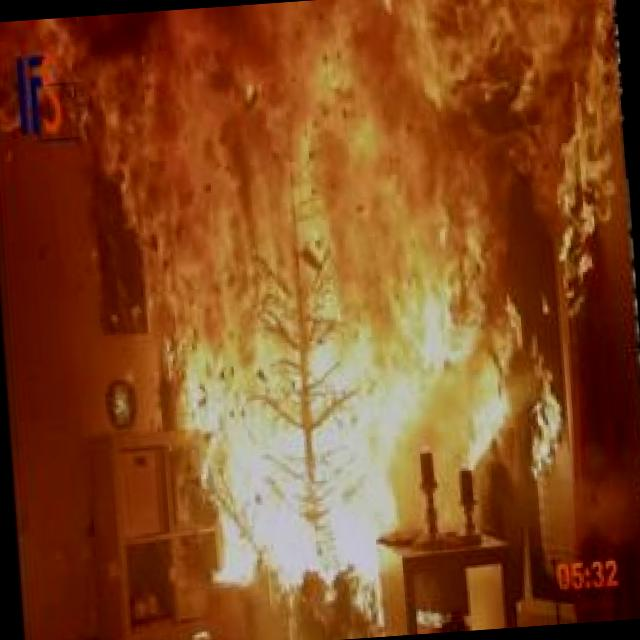fire: (0, 0, 639, 585)
